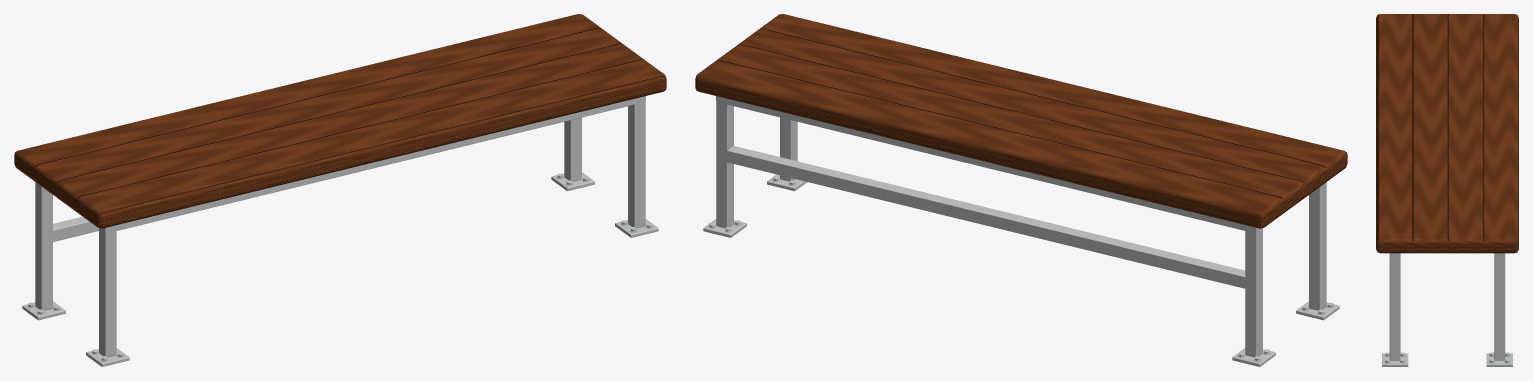
The model's file is fps-weapon-set-and-firing-range-range-bench-0486b3d8__19517.glb.
3 renders of one model, left to right at view 1: azimuth 30°, elevation 25°; view 2: azimuth 150°, elevation 25°; view 3: azimuth 270°, elevation 25°, orthographic. The views are drawn at different scales.
Parts seen in each view (by area): view 1: range-bench; view 2: range-bench; view 3: range-bench.
Part boxes in pixels (left/top/right/bottom): range-bench: left=14, top=14, right=666, bottom=366; range-bench: left=695, top=14, right=1347, bottom=366; range-bench: left=1376, top=14, right=1518, bottom=366.
Size of the model in its own units: 1.7 by 0.45 by 0.45.
2 materials, 1 textured.
